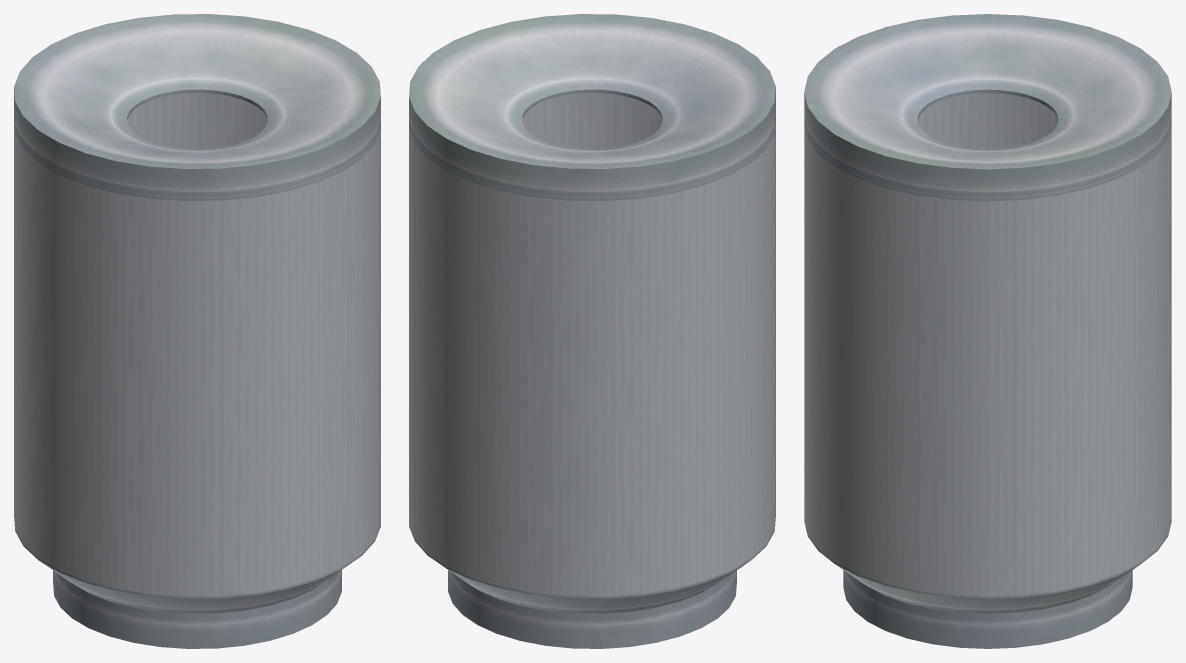
File: FNBN0201_Simple_Bin_Fluted.FBX
3 renders of one model, left to right at view 1: azimuth 30°, elevation 25°; view 2: azimuth 150°, elevation 25°; view 3: azimuth 270°, elevation 25°, orthographic.
Parts seen in each view (by area): view 1: FNBN0201_Simple_Bin_Fluted; view 2: FNBN0201_Simple_Bin_Fluted; view 3: FNBN0201_Simple_Bin_Fluted.
Boxes of the visible parts, <box> form: FNBN0201_Simple_Bin_Fluted: <box>14,14,380,648</box>; FNBN0201_Simple_Bin_Fluted: <box>409,14,775,648</box>; FNBN0201_Simple_Bin_Fluted: <box>804,14,1171,648</box>.
Size of the model in its own units: 50 by 74.5 by 50.
Materials: 1 (1 with a texture image).
